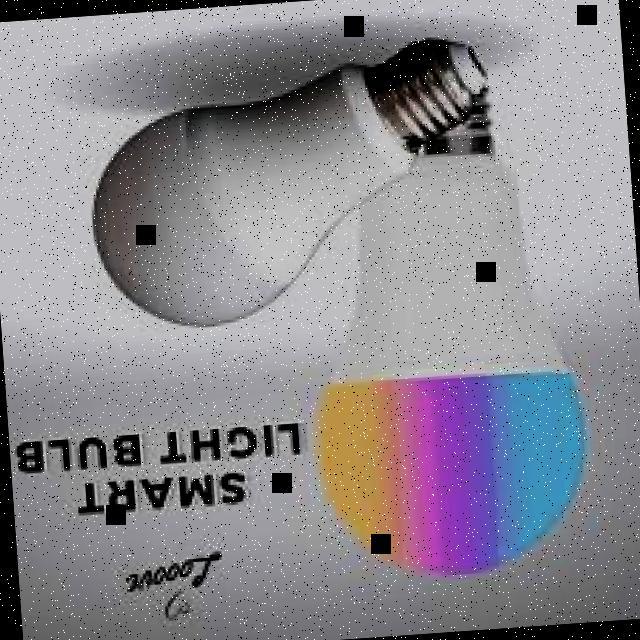light_bulb: (285, 47, 600, 600), (70, 12, 516, 376)
